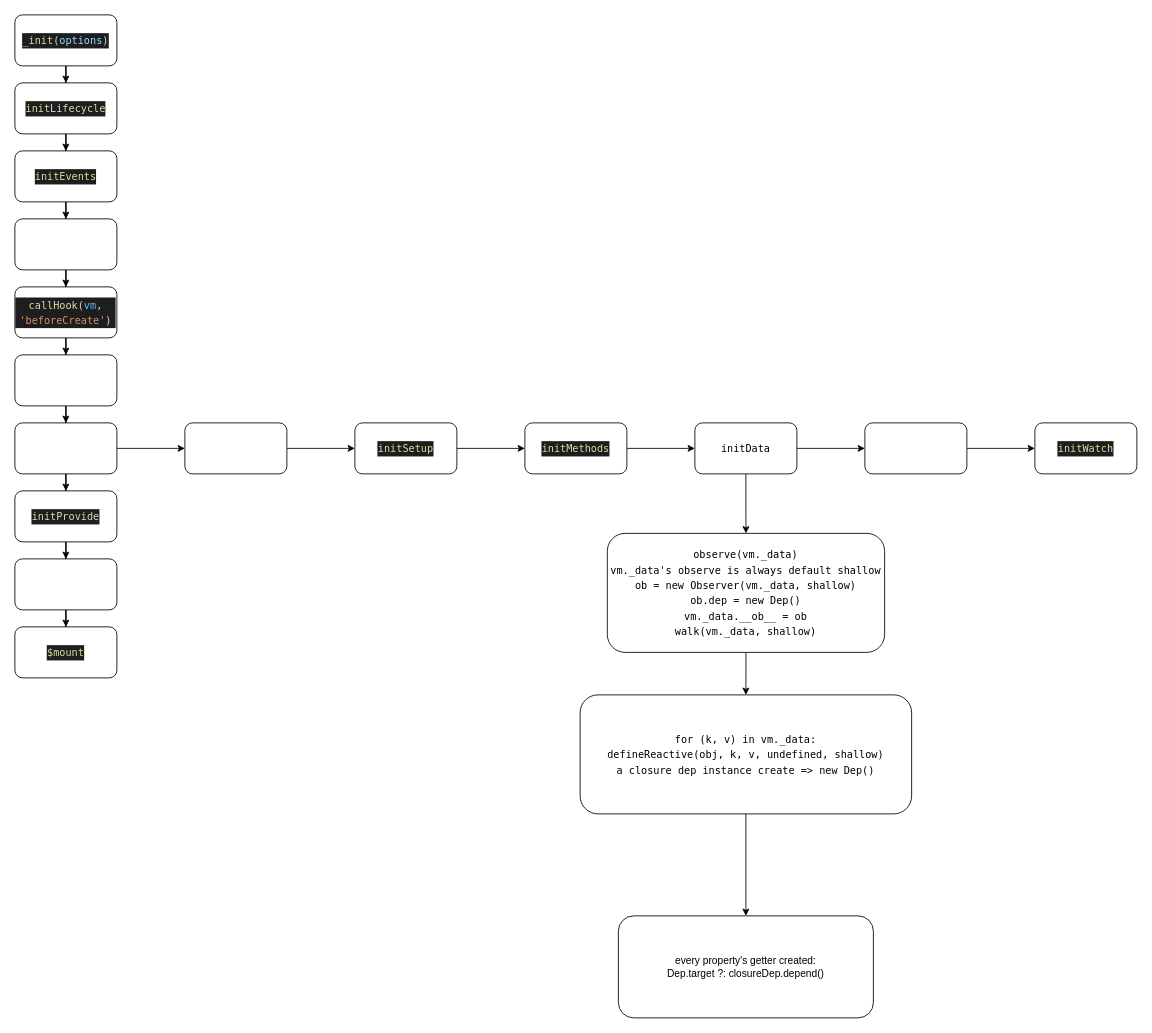
Some shapes in this 1152 by 1033 pixel diagram are drawn without their labels. The shapes that lost their labels are listed below. From the top down, each one's centre as x and y in pixels, then its label:
the point at 65,244: initRender
the point at 65,380: initInjections
the point at 65,448: initState
the point at 235,448: initProps
the point at 915,448: initComputed
the point at 65,584: callHook ( vm , 'created' )
